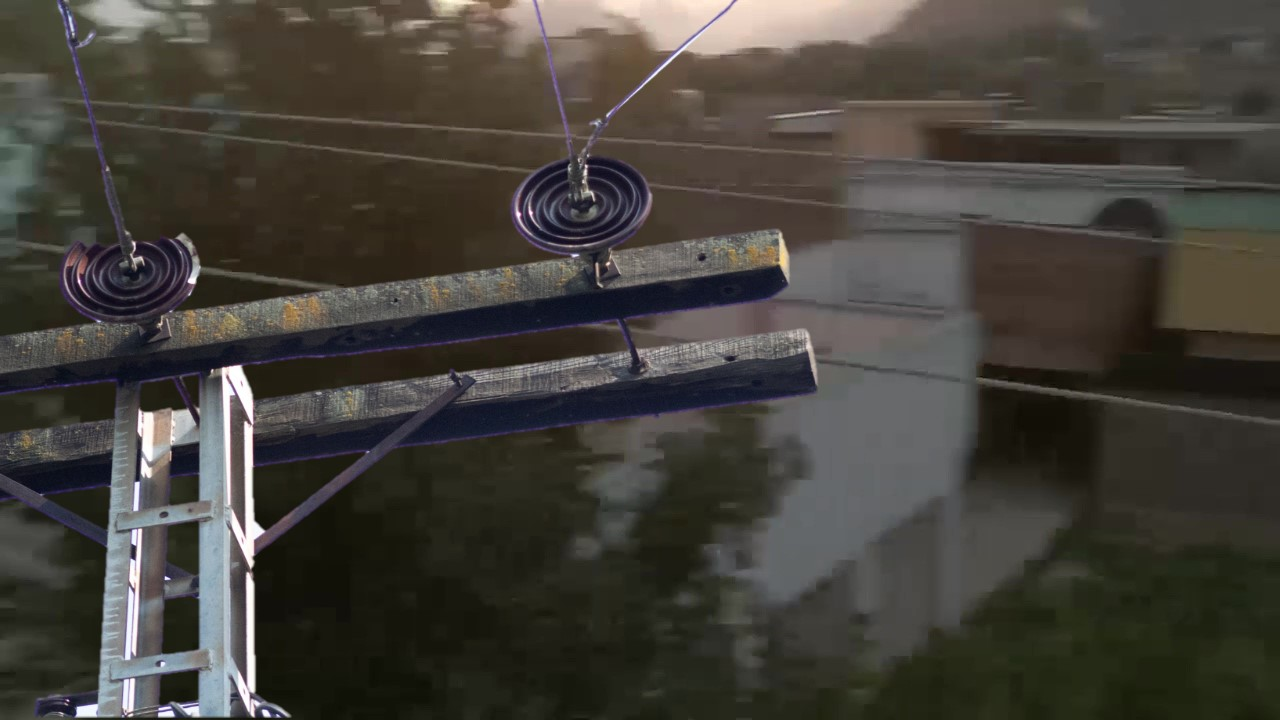defect_disc: (55, 217, 221, 332)
insulator_disc: (509, 148, 661, 259)
